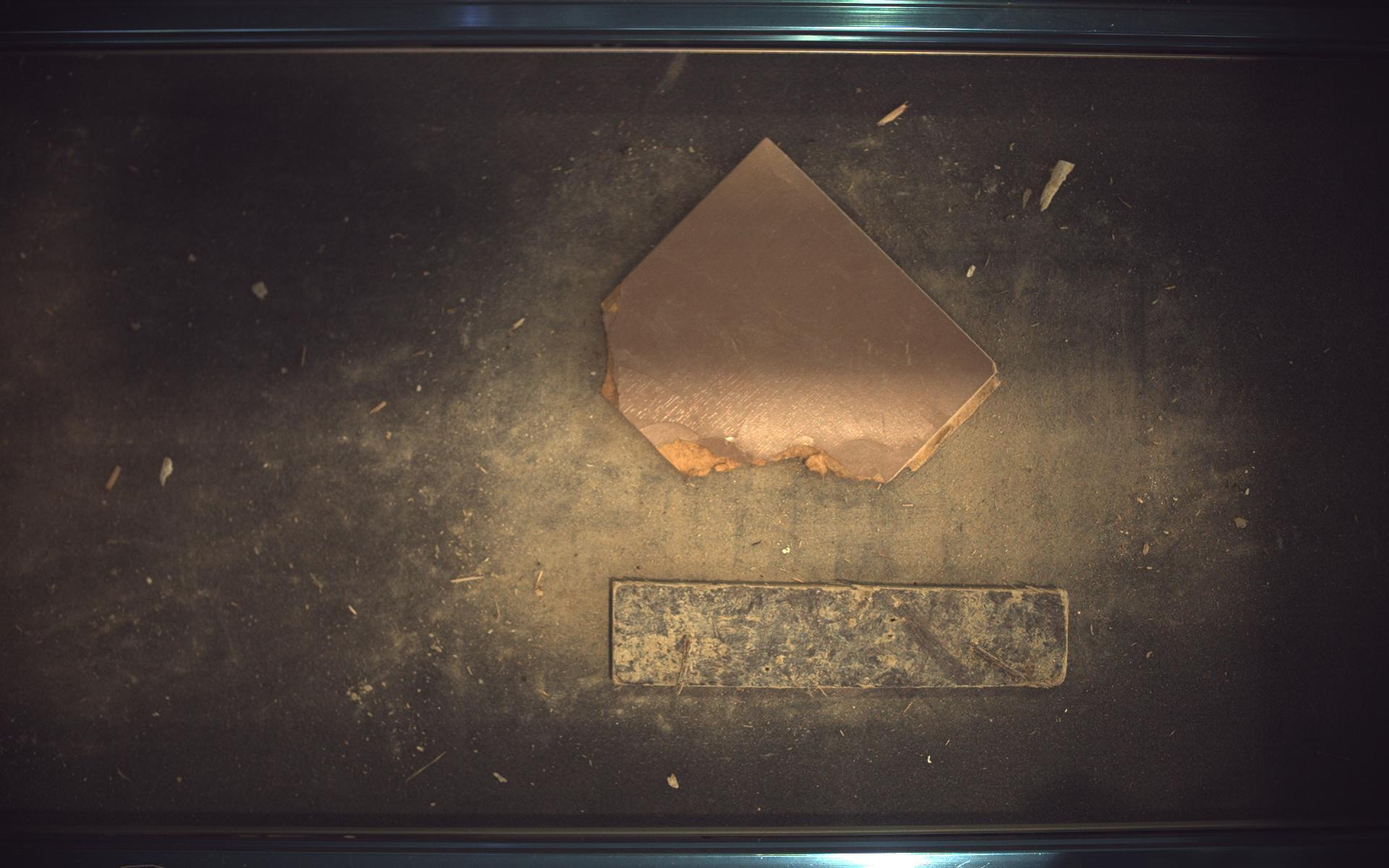wood: (603, 137, 1001, 483), (612, 580, 1070, 694)
